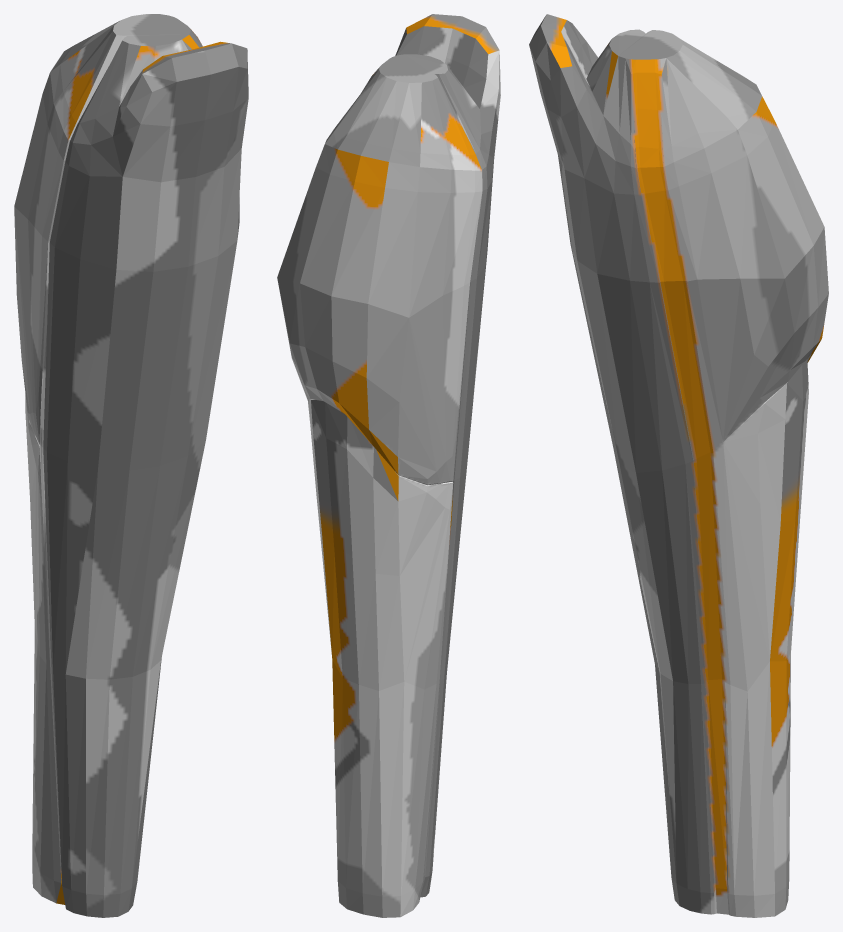
File: LeftLowerLeg.obj
3 views of the same model, side by side, from view 1: azimuth 30°, elevation 25°; view 2: azimuth 150°, elevation 25°; view 3: azimuth 270°, elevation 25° (orthographic). The views are drawn at different scales.
Visible parts, largest first — view 1: LeftLowerLeg_Mesh.473; view 2: LeftLowerLeg_Mesh.473; view 3: LeftLowerLeg_Mesh.473.
Boxes of the visible parts, x1=… form: LeftLowerLeg_Mesh.473: x1=14, y1=14, x2=248, y2=917; LeftLowerLeg_Mesh.473: x1=277, y1=14, x2=500, y2=917; LeftLowerLeg_Mesh.473: x1=529, y1=14, x2=828, y2=917.
Bounding box in the file's own units: 0.0914 × 0.4475 × 0.1378.
1 material, 1 textured.
